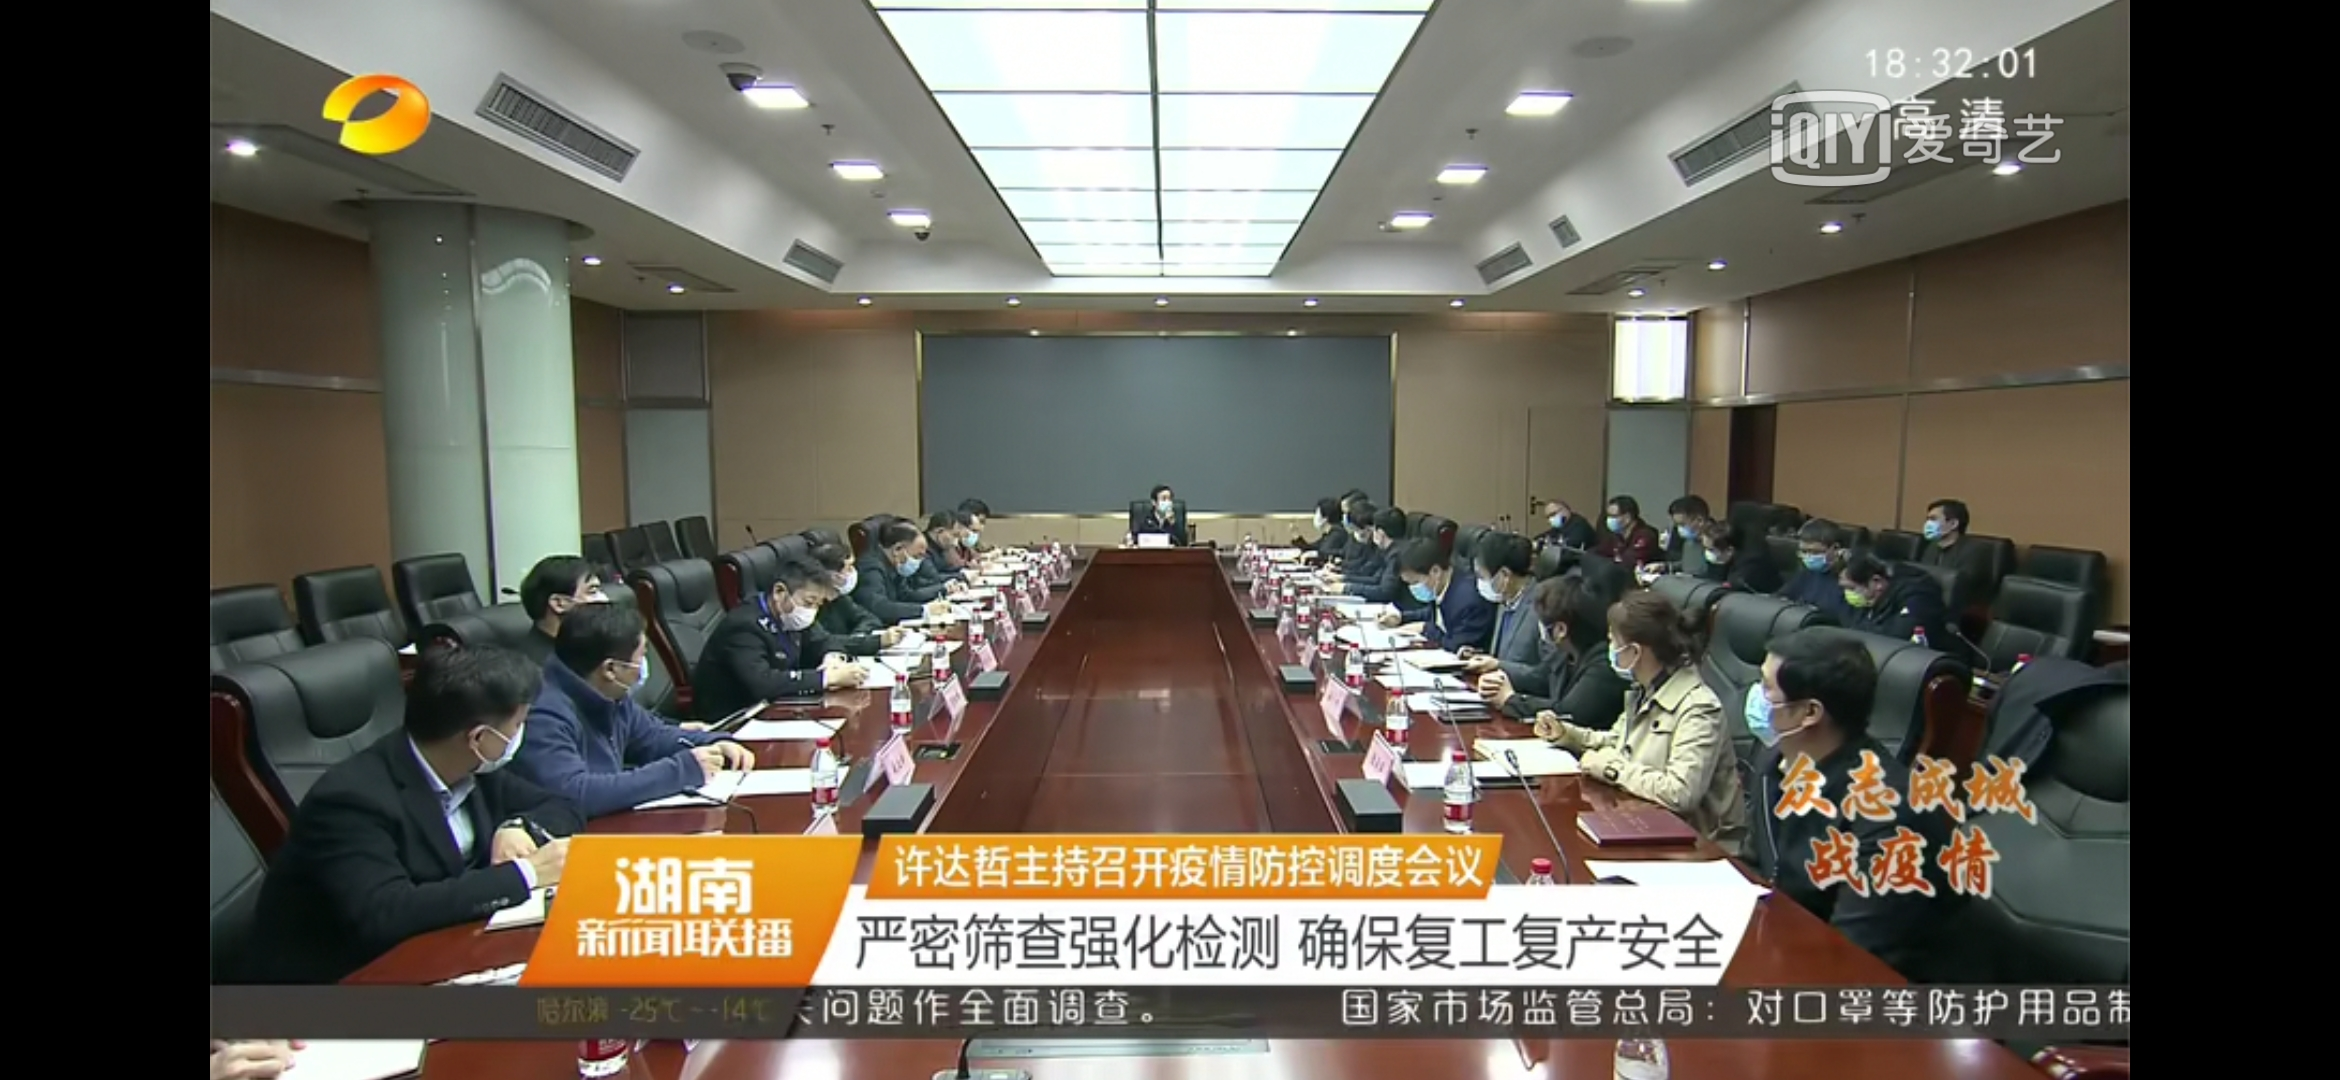correctlyWear: (1739, 673, 1827, 750), (455, 712, 525, 785), (772, 580, 822, 638), (1536, 589, 1582, 647), (604, 649, 651, 700), (1607, 632, 1646, 683), (1840, 574, 1885, 613), (1404, 567, 1445, 604), (1477, 568, 1516, 606), (828, 559, 860, 603), (1798, 543, 1839, 574), (892, 540, 925, 577), (1922, 513, 1959, 543), (1674, 512, 1706, 541), (1703, 540, 1734, 567), (1151, 489, 1177, 518), (1606, 510, 1633, 533), (960, 525, 982, 550), (1548, 506, 1570, 528), (1313, 504, 1331, 530), (1354, 516, 1368, 544), (1339, 501, 1354, 527), (1373, 521, 1386, 546)
